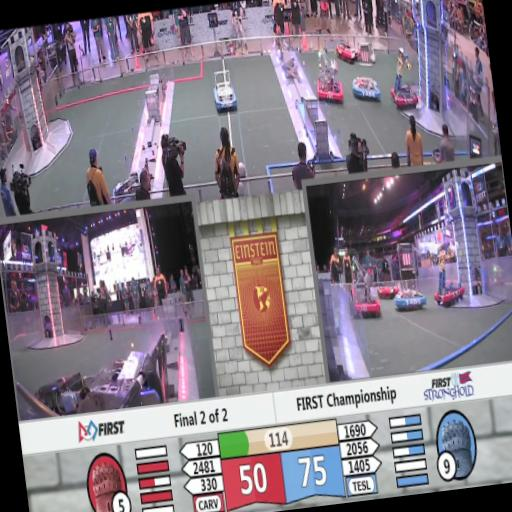robot: (23, 340, 175, 426), (430, 237, 468, 306), (344, 250, 382, 318), (386, 46, 422, 113), (310, 44, 346, 103), (210, 67, 238, 112), (350, 70, 384, 106), (393, 284, 429, 312), (336, 34, 362, 66), (376, 282, 401, 300)
